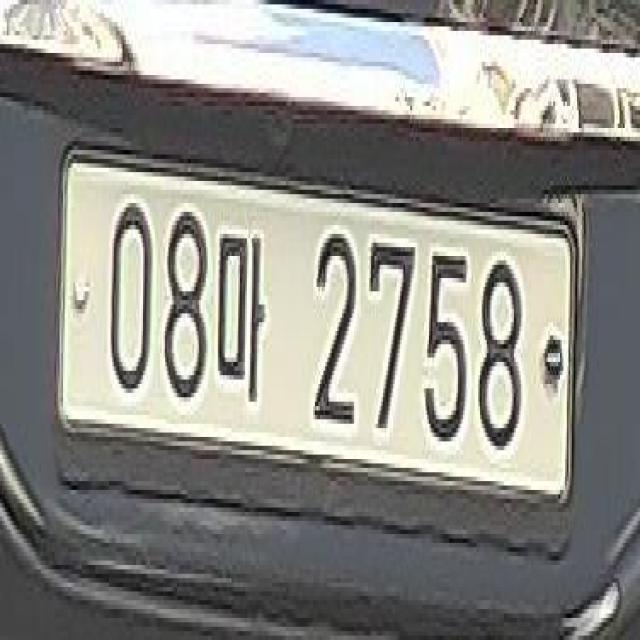illegal_plate: (59, 144, 577, 540)
